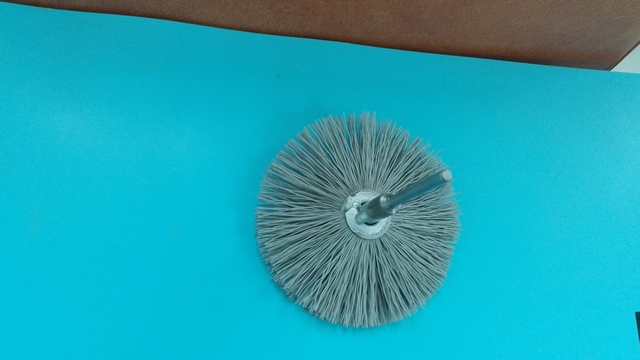TOOL: (195, 99, 514, 338), (247, 85, 459, 351)
